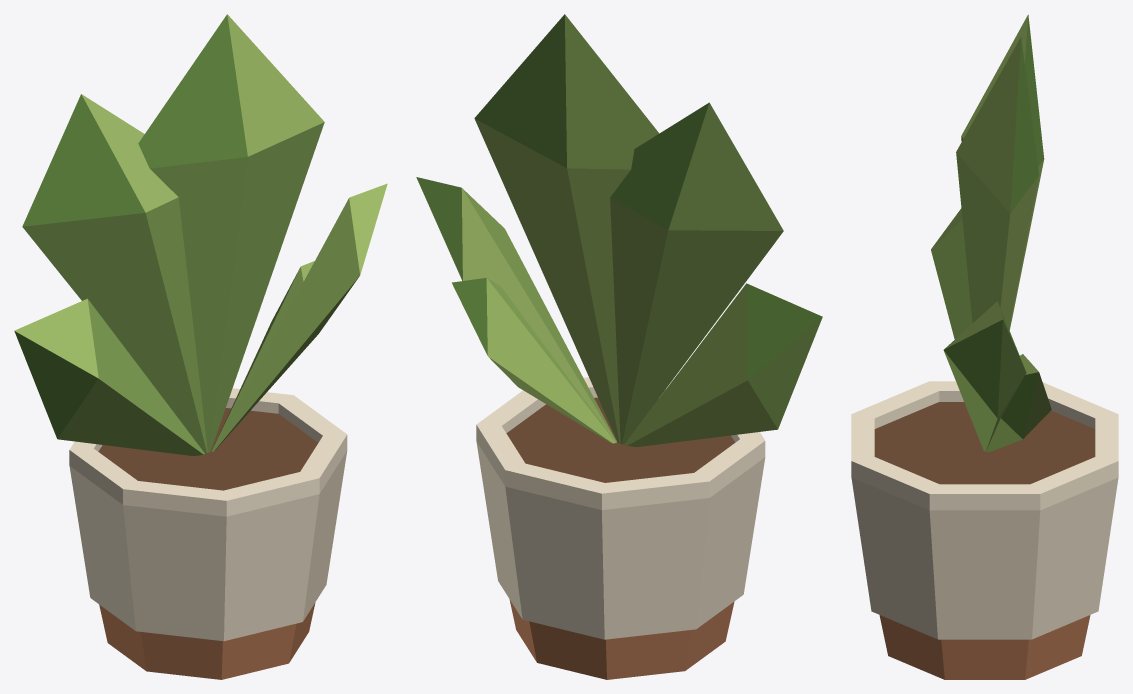
File: Tree.fbx
3 renders of one model, left to right at view 1: azimuth 30°, elevation 25°; view 2: azimuth 150°, elevation 25°; view 3: azimuth 270°, elevation 25°, orthographic. The views are drawn at different scales.
Visible parts, largest first — view 1: Faceted leaf 3, 10_Leaf_Plant / Ivory planter, Faceted leaf 2, Faceted leaf 0, Planter rim, Faceted leaf 1, 10_Leaf_Plant / Dark soil, 10_Leaf_Plant / Terracotta foot, Faceted leaf 4; view 2: 10_Leaf_Plant / Ivory planter, Faceted leaf 3, Faceted leaf 2, Faceted leaf 0, Planter rim, Faceted leaf 1, 10_Leaf_Plant / Dark soil, 10_Leaf_Plant / Terracotta foot, Faceted leaf 4; view 3: 10_Leaf_Plant / Ivory planter, Faceted leaf 3, Planter rim, 10_Leaf_Plant / Dark soil, 10_Leaf_Plant / Terracotta foot, Faceted leaf 1, Faceted leaf 0, Faceted leaf 4, Faceted leaf 2.
Part boxes in pixels (x1,y1,x2,y2): Faceted leaf 3: (138, 14, 324, 452); 10_Leaf_Plant / Ivory planter: (69, 451, 347, 641); Faceted leaf 2: (22, 94, 207, 453); Faceted leaf 0: (14, 298, 204, 456); Planter rim: (69, 388, 347, 516); Faceted leaf 1: (212, 183, 387, 451); 10_Leaf_Plant / Dark soil: (98, 408, 317, 490); 10_Leaf_Plant / Terracotta foot: (99, 603, 315, 679); Faceted leaf 4: (212, 261, 314, 450); 10_Leaf_Plant / Ivory planter: (476, 441, 765, 639); Faceted leaf 3: (474, 14, 659, 443); Faceted leaf 2: (610, 102, 783, 444); Faceted leaf 0: (624, 283, 822, 447); Planter rim: (476, 377, 765, 509); Faceted leaf 1: (416, 177, 616, 442); 10_Leaf_Plant / Dark soil: (506, 397, 735, 482); 10_Leaf_Plant / Terracotta foot: (509, 599, 734, 679); Faceted leaf 4: (452, 278, 615, 443); 10_Leaf_Plant / Ivory planter: (851, 477, 1118, 639); Faceted leaf 3: (956, 37, 1038, 329); Planter rim: (851, 381, 1118, 510); 10_Leaf_Plant / Dark soil: (874, 402, 1095, 484); 10_Leaf_Plant / Terracotta foot: (879, 615, 1090, 679); Faceted leaf 1: (943, 301, 1026, 451); Faceted leaf 0: (931, 208, 972, 339); Faceted leaf 4: (986, 354, 1051, 452); Faceted leaf 2: (961, 14, 1044, 330).
Bounding box in the file's own units: 126 × 189 × 73.91.
